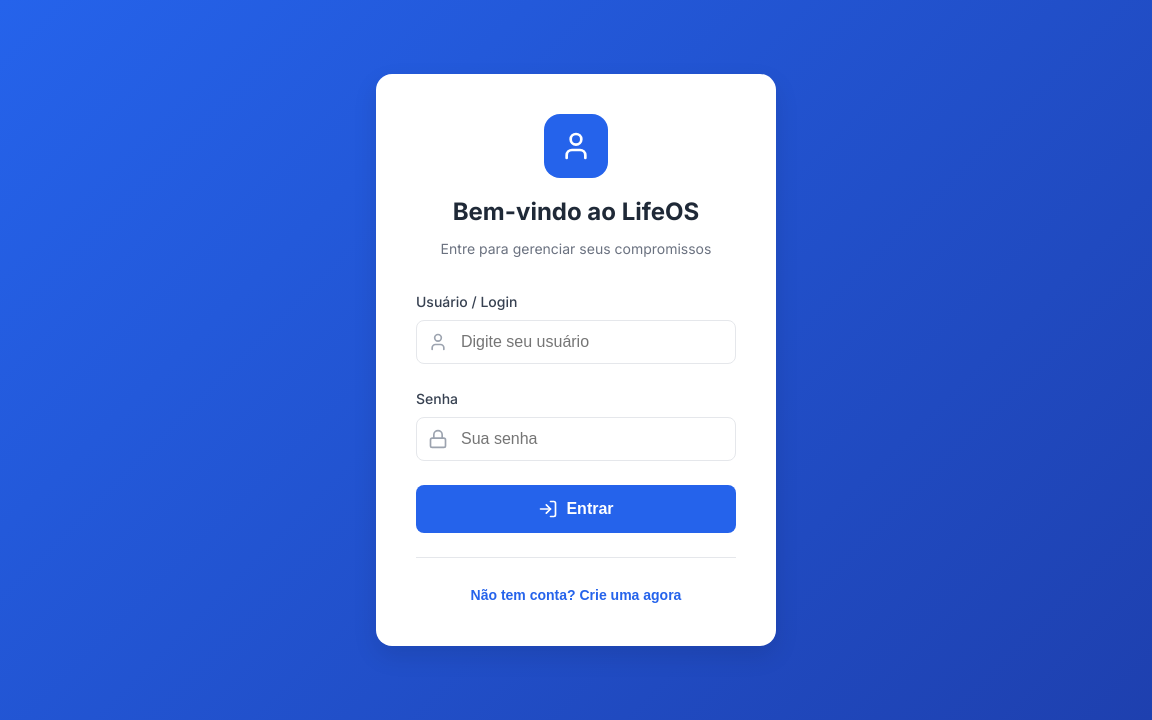
Login Component › deve exibir erro com credenciais inválidas
Type "usuario" into the field with placeholder "Digite seu usuário" at point(576, 342), box [416,320,736,364]
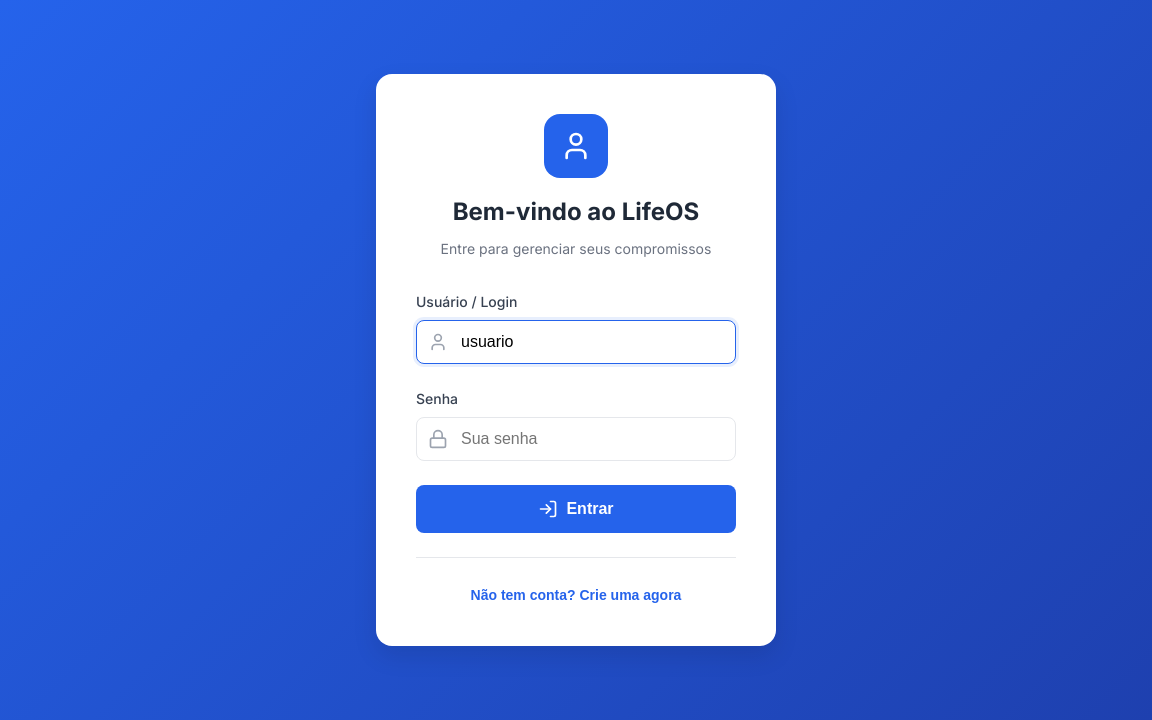
Type "senhaerrada" into the password field with placeholder "Sua senha" at point(576, 439), box [416,417,736,461]
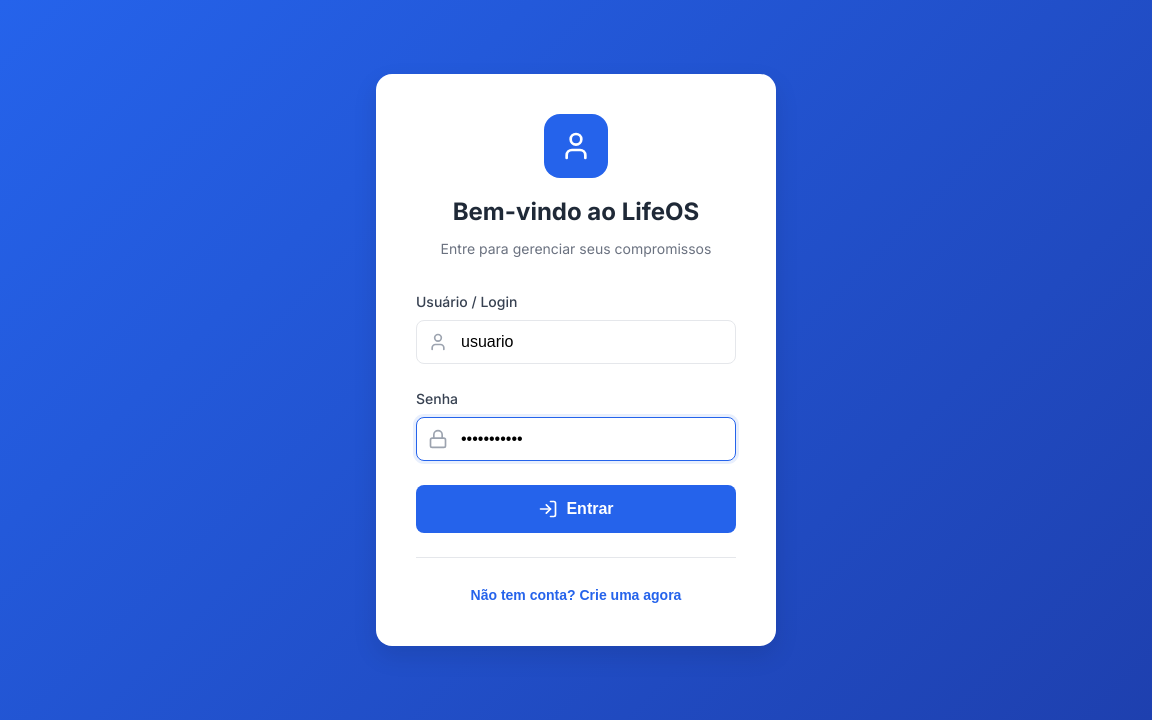
Click the button "Entrar" at point(576, 509), box [416,485,736,533]
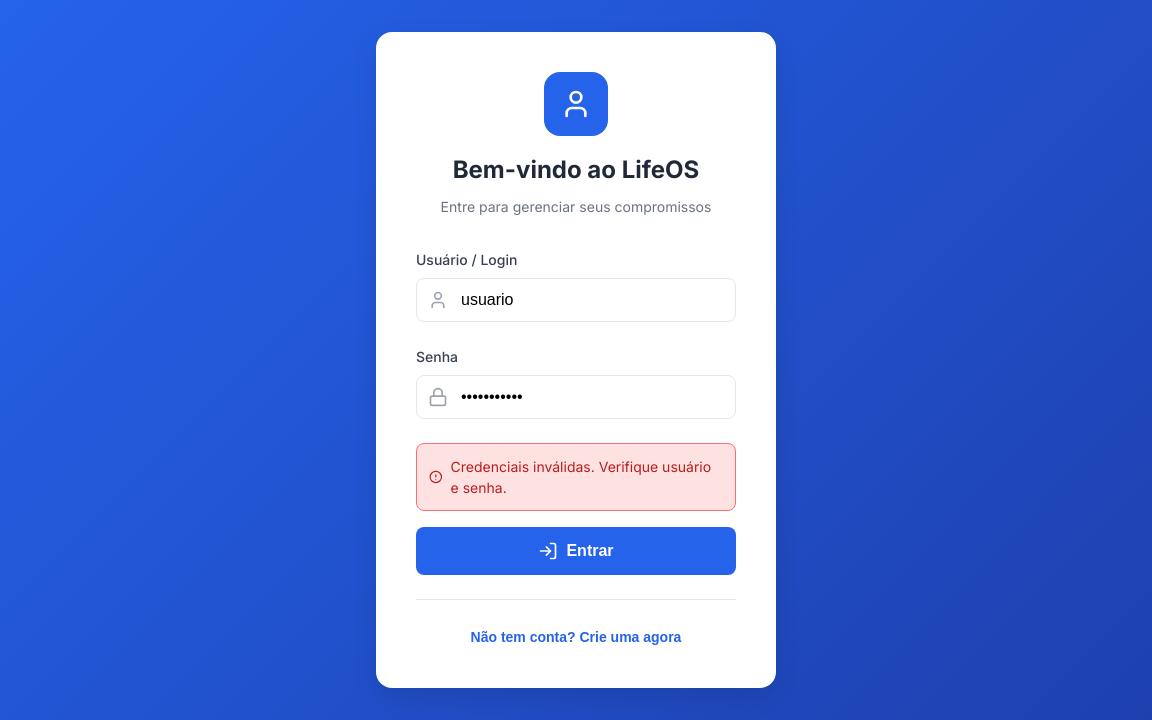
Result: the text "Credenciais inválidas. Verifique usuário e senha." is shown at [451,456,723,498]
